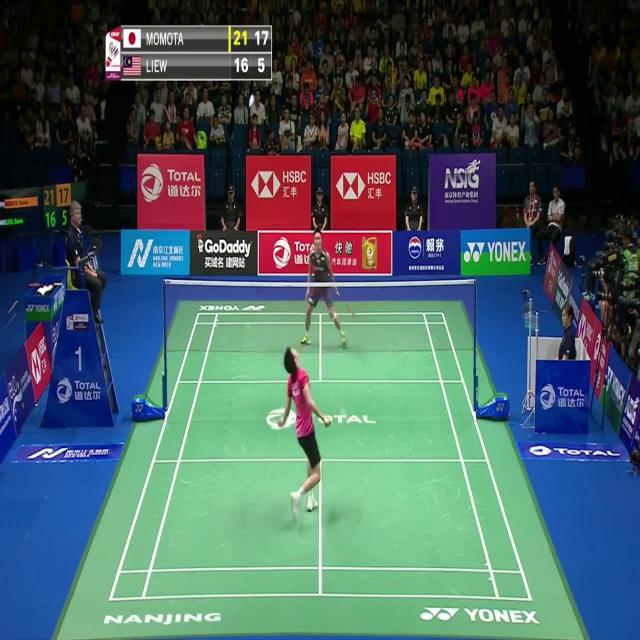Shuttlecock: (247, 96, 254, 108)
